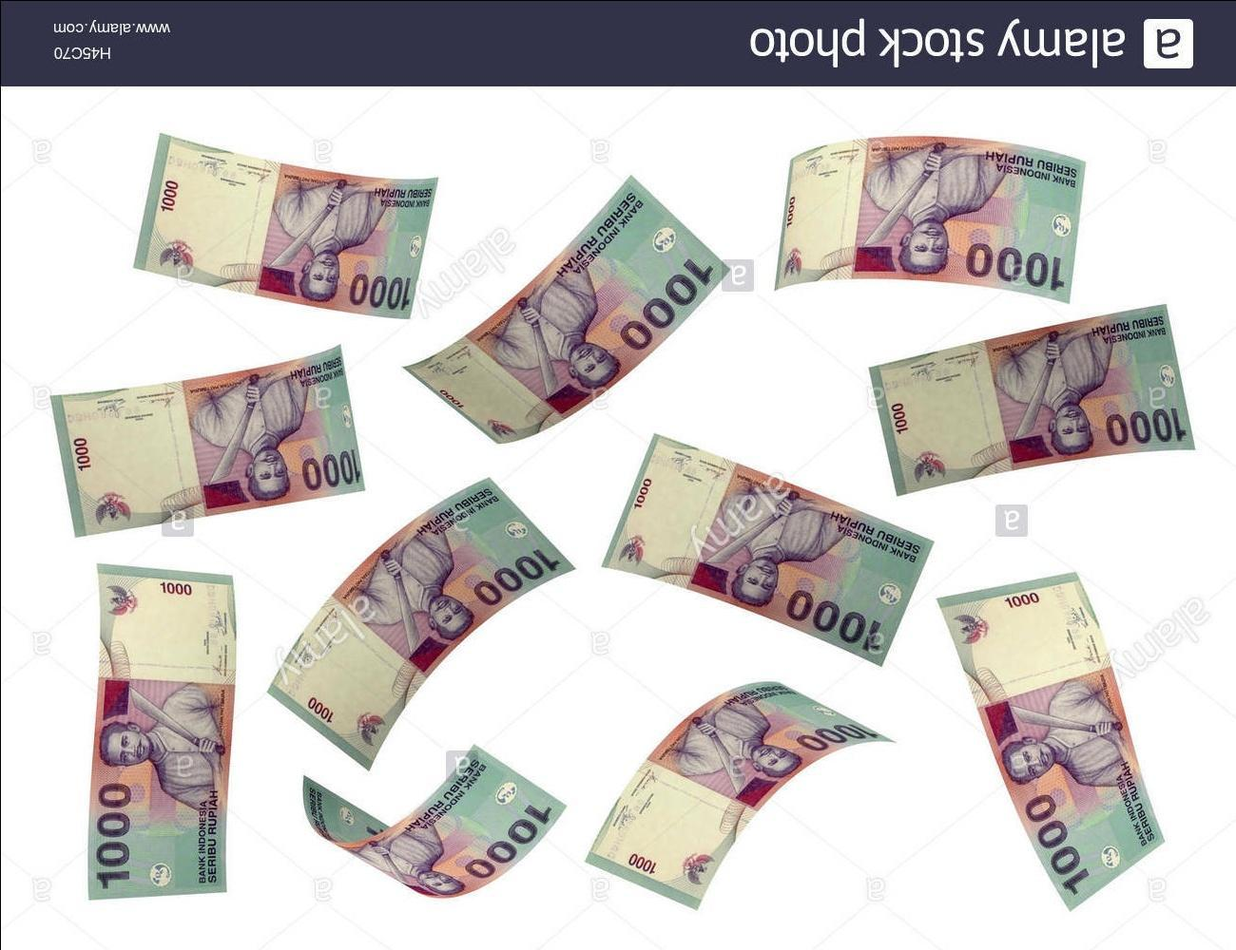1000IndonesianRupiah: (115, 133, 437, 321)
